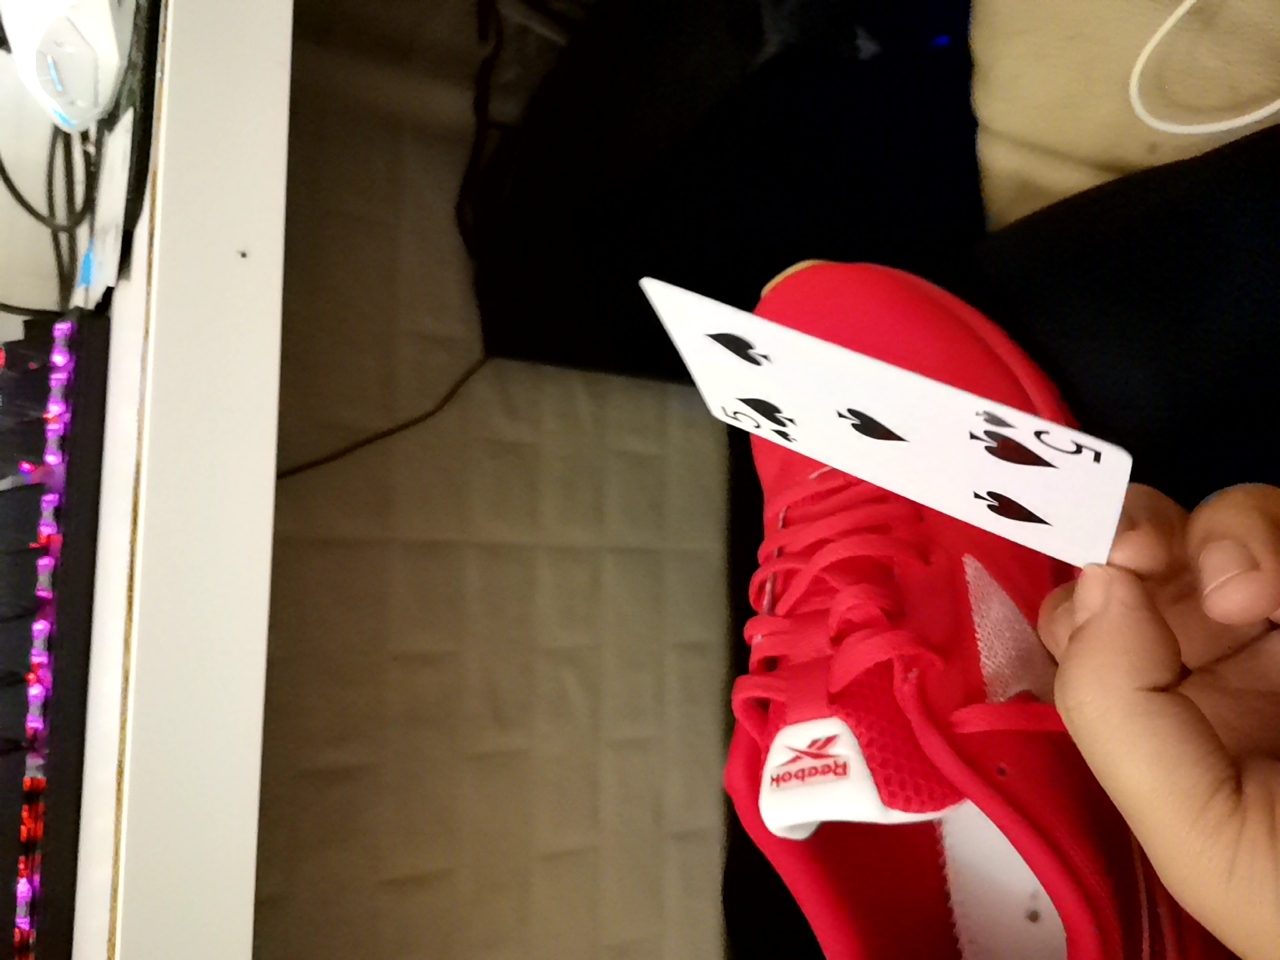ht 5: (602, 333, 1111, 683)
